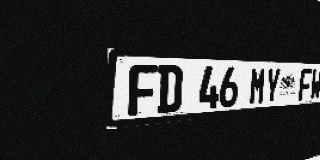4: (198, 66, 221, 110)
6: (219, 66, 239, 108)
D: (157, 65, 183, 114)
F: (128, 64, 157, 116), (298, 68, 312, 101)
M: (249, 67, 267, 105)
W: (310, 69, 320, 100)
Y: (264, 68, 281, 104)
